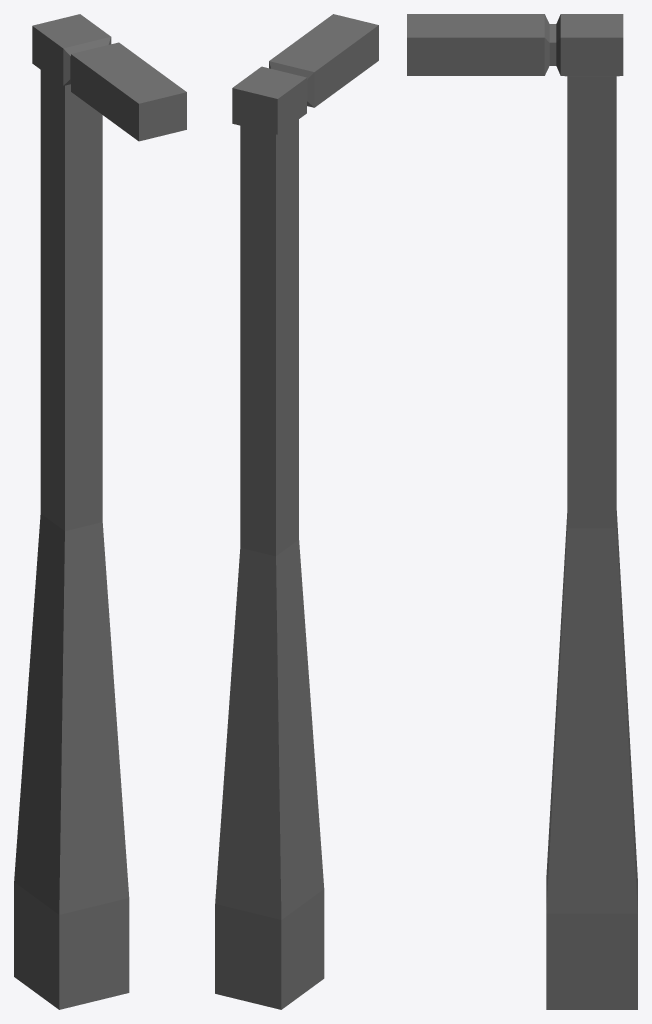
Rendered from lyktestolpe.fbx.
3 views of the same model, side by side, from view 1: azimuth 30°, elevation 25°; view 2: azimuth 150°, elevation 25°; view 3: azimuth 270°, elevation 25° (orthographic). The views are drawn at different scales.
Parts seen in each view (by area): view 1: Plane; view 2: Plane; view 3: Plane.
Part boxes in pixels (x1,y1,x2,y2): Plane: [14, 14, 186, 1009]; Plane: [215, 14, 378, 1009]; Plane: [407, 14, 637, 1009].
Bounding box in the file's own units: 12.25 × 159 × 34.49.
1 material, 1 textured.
